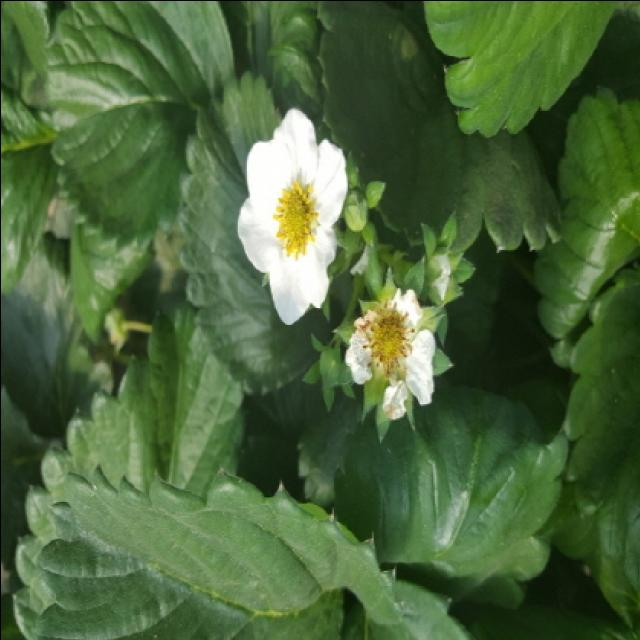Blossom Blight: (354, 297, 419, 377)
